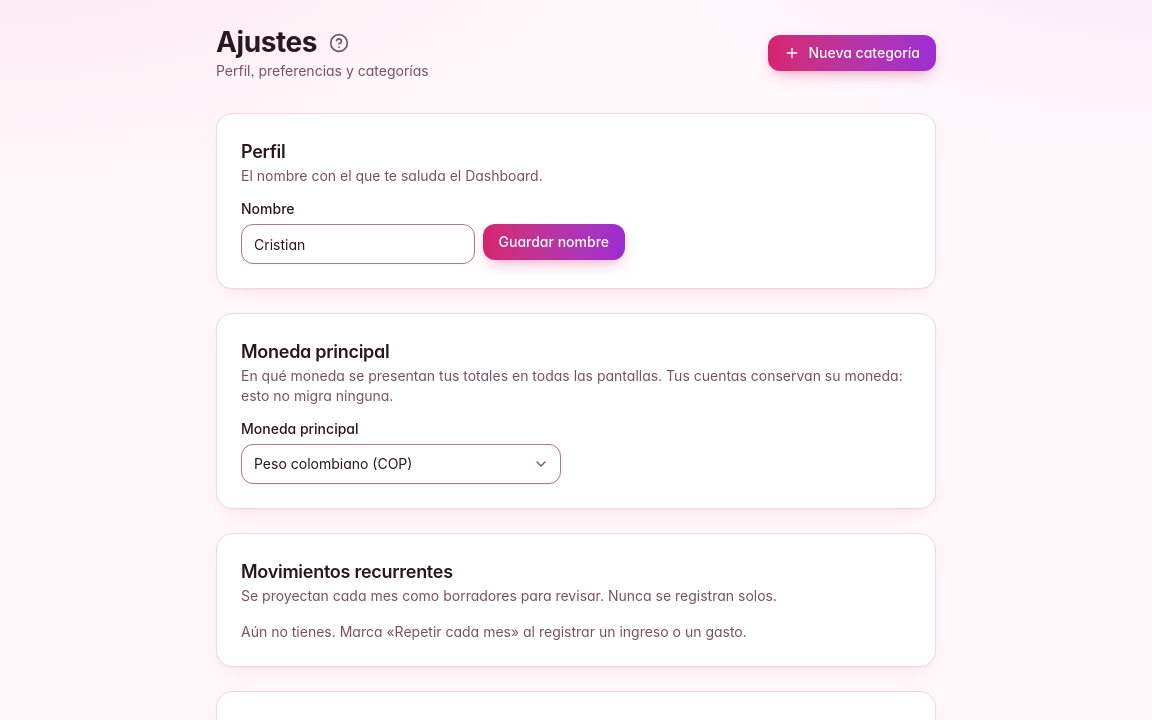
Scenario: Settings — ayuda de la pantalla (M18) › el «?» junto al título explica la pantalla
The width and height of the screenshot is (1152, 720).
Click the button named "Ayuda: Ajustes": (339, 43) [321, 25, 357, 61]
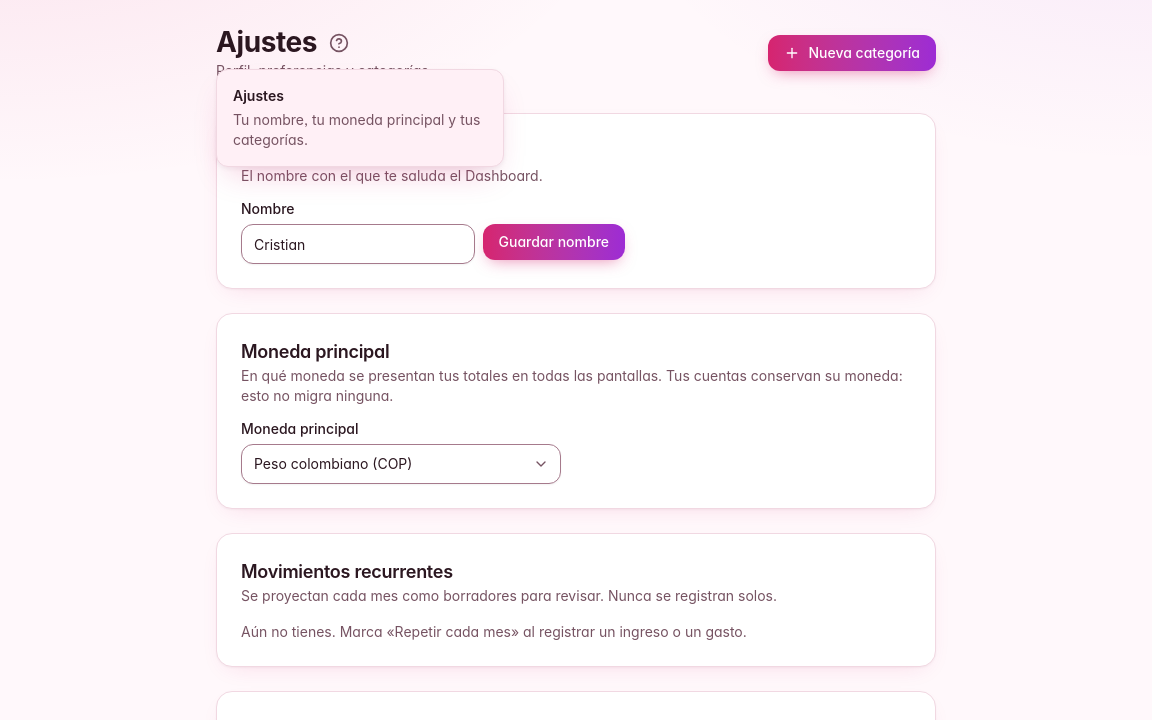
Result: the element "Ajustes" shows "Tu nombre, tu moneda principal y tus categorías." at [233, 111, 480, 148]
